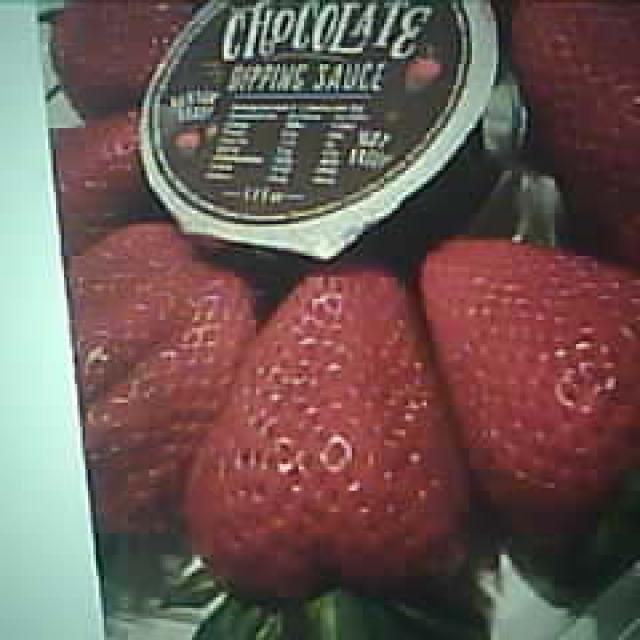ripe: (191, 269, 454, 590), (420, 238, 640, 520)
